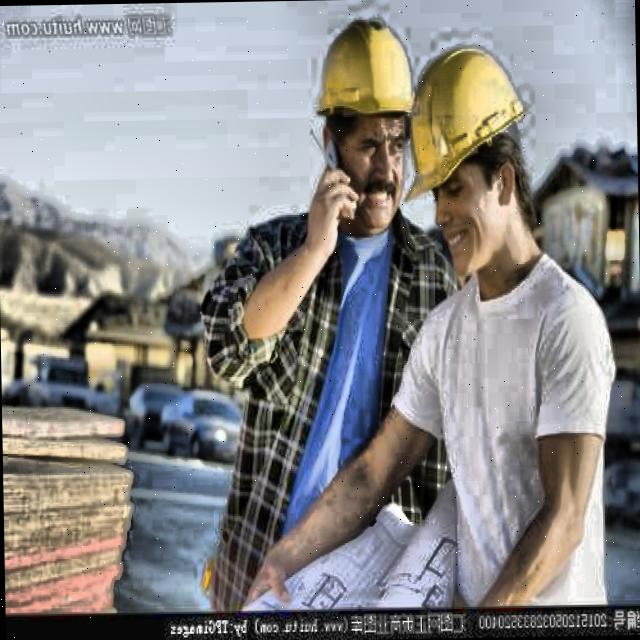helmet: (402, 36, 550, 267), (304, 13, 416, 247)
